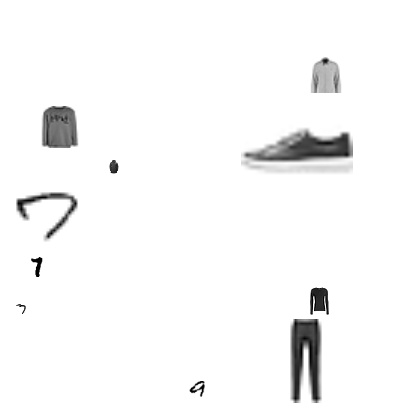7: (5, 166, 89, 250), (23, 251, 51, 279), (15, 300, 29, 314)
9: (187, 377, 209, 399)
Coat: (107, 160, 121, 174)
Pullover: (39, 106, 81, 148), (305, 287, 333, 315)
Shirt: (305, 57, 347, 99)
Sneaker: (241, 93, 353, 205)
Trouser: (264, 319, 348, 403)
